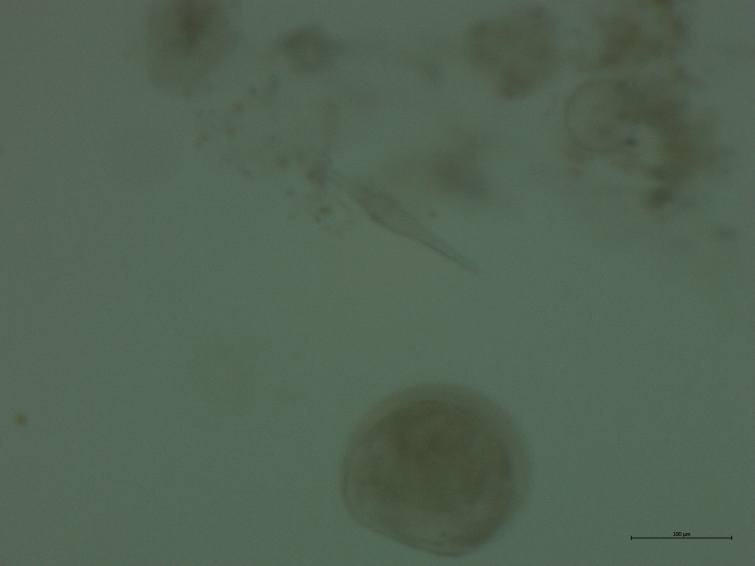oyster: (332, 373, 546, 564)
